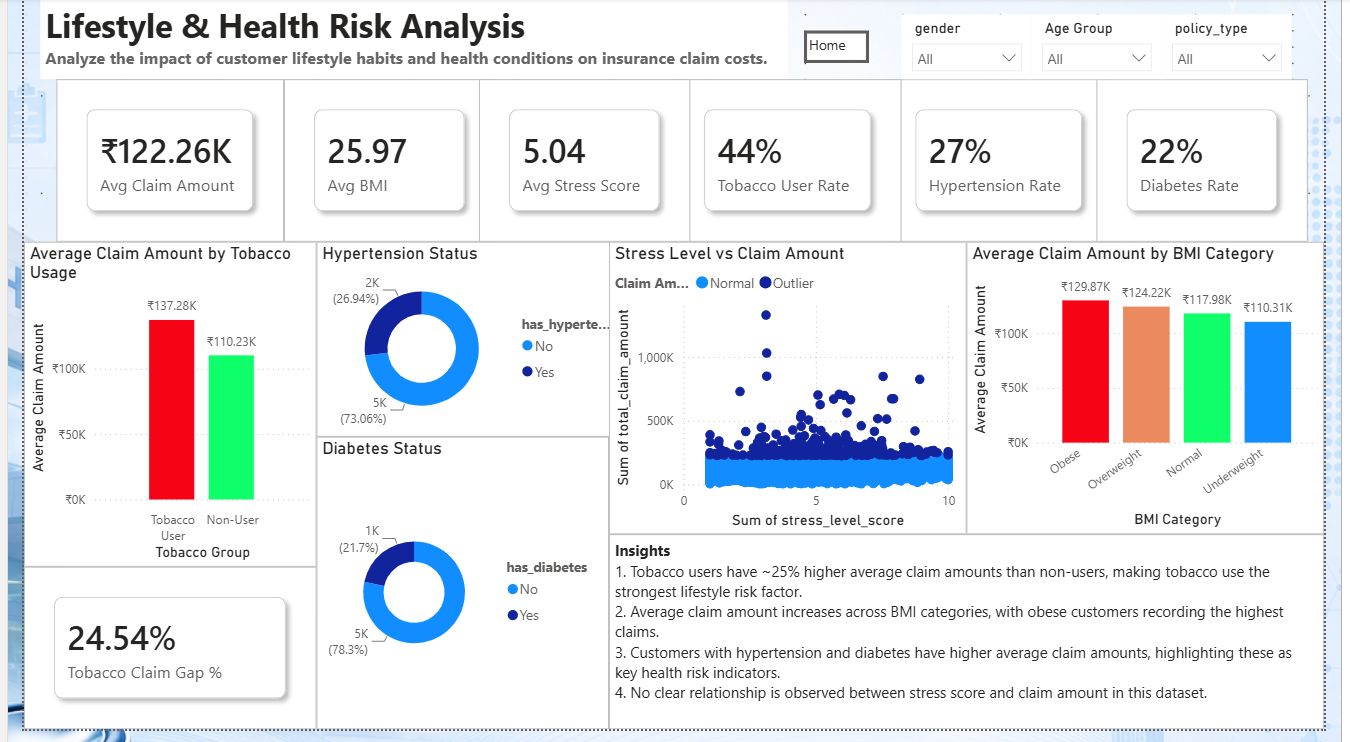

This screenshot's page, from the dashboard's own definition file:
{"tool":"powerbi","page":{"name":"Page 2","canvas":[1280,720],"ordinal":1},"visuals":[{"type":"textbox","box":[16,0,864,80],"z":0},{"type":"cardVisual","fields":{"Data":["indian_health_insurance_claims_dataset.Average BMI"]},"box":[256,80,208,160],"z":1000},{"type":"cardVisual","fields":{"Data":["indian_health_insurance_claims_dataset.Hypertension Rate"]},"box":[848,80,224,160],"z":2000},{"type":"cardVisual","fields":{"Data":["indian_health_insurance_claims_dataset.Diabetes Rate"]},"box":[1056,80,208,160],"z":3000},{"type":"cardVisual","fields":{"Data":["indian_health_insurance_claims_dataset.Smoking Rate"]},"box":[640,80,224,160],"z":4000},{"type":"cardVisual","fields":{"Data":["indian_health_insurance_claims_dataset.Avg Stress"]},"box":[448,80,208,160],"z":5000},{"type":"cardVisual","fields":{"Data":["indian_health_insurance_claims_dataset.Average Claim Amount"]},"box":[32,80,224,160],"z":6000},{"type":"clusteredColumnChart","title":"Average Claim Amount by Tobacco Usage","fields":{"Y":["indian_health_insurance_claims_dataset.Average Claim Amount"],"Category":["indian_health_insurance_claims_dataset.Tobacco Group"]},"box":[0,240,288,320],"z":7000},{"type":"donutChart","title":"Diabetes Status","fields":{"Category":["indian_health_insurance_claims_dataset.has_diabetes"],"Y":["indian_health_insurance_claims_dataset.Total Claims"]},"box":[272,432,288,288],"z":8000},{"type":"donutChart","title":"Hypertension Status","fields":{"Category":["indian_health_insurance_claims_dataset.has_hypertension"],"Y":["indian_health_insurance_claims_dataset.Total Claims"]},"box":[288,240,304,192],"z":9000},{"type":"scatterChart","title":"Stress Level vs Claim Amount","fields":{"X":["Sum(indian_health_insurance_claims_dataset.stress_level_score)"],"Y":["Sum(indian_health_insurance_claims_dataset.total_claim_amount)"],"Series":["indian_health_insurance_claims_dataset.Claim Amount Outlier Flag"],"Category":["indian_health_insurance_claims_dataset.policy_id"]},"box":[576,240,352,288],"z":10000},{"type":"columnChart","fields":{"Category":["indian_health_insurance_claims_dataset.BMI Category"],"Y":["indian_health_insurance_claims_dataset.Average Claim Amount"]},"box":[928,240,352,288],"z":11000},{"type":"slicer","fields":{"Values":["indian_health_insurance_claims_dataset.gender"]},"box":[864,16,128,64],"z":12000},{"type":"slicer","fields":{"Values":["indian_health_insurance_claims_dataset.policy_type"]},"box":[1120,16,128,64],"z":13000},{"type":"slicer","fields":{"Values":["indian_health_insurance_claims_dataset.Age Group"]},"box":[992,16,128,64],"z":14000},{"type":"textbox","box":[592,528,688,192],"z":15000},{"type":"cardVisual","fields":{"Data":["indian_health_insurance_claims_dataset.Tobacco Claim Gap %"]},"box":[0,560,272,160],"z":16000}]}

Visuals, with their boxes in screenshot pixels (x1, y1, x2, y2), scaled from the page's 1280x720 canvas onto the 1350x742 screenshot:
textbox: (17, 0, 928, 82)
cardVisual - indian_health_insurance_claims_dataset.Average BMI: (270, 82, 489, 247)
cardVisual - indian_health_insurance_claims_dataset.Hypertension Rate: (894, 82, 1131, 247)
cardVisual - indian_health_insurance_claims_dataset.Diabetes Rate: (1114, 82, 1333, 247)
cardVisual - indian_health_insurance_claims_dataset.Smoking Rate: (675, 82, 911, 247)
cardVisual - indian_health_insurance_claims_dataset.Avg Stress: (472, 82, 692, 247)
cardVisual - indian_health_insurance_claims_dataset.Average Claim Amount: (34, 82, 270, 247)
"Average Claim Amount by Tobacco Usage" clusteredColumnChart: (0, 247, 304, 577)
"Diabetes Status" donutChart: (287, 445, 591, 741)
"Hypertension Status" donutChart: (304, 247, 624, 445)
"Stress Level vs Claim Amount" scatterChart: (608, 247, 979, 544)
columnChart - indian_health_insurance_claims_dataset.BMI Category x indian_health_insurance_claims_dataset.Average Claim Amount: (979, 247, 1349, 544)
slicer - indian_health_insurance_claims_dataset.gender: (911, 16, 1046, 82)
slicer - indian_health_insurance_claims_dataset.policy_type: (1181, 16, 1316, 82)
slicer - indian_health_insurance_claims_dataset.Age Group: (1046, 16, 1181, 82)
textbox: (624, 544, 1349, 741)
cardVisual - indian_health_insurance_claims_dataset.Tobacco Claim Gap %: (0, 577, 287, 741)
